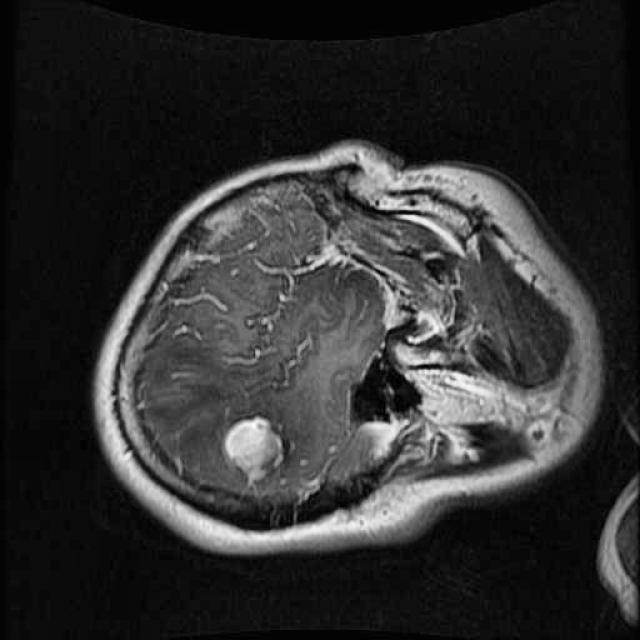Non-Tumor: (210, 406, 305, 502)
